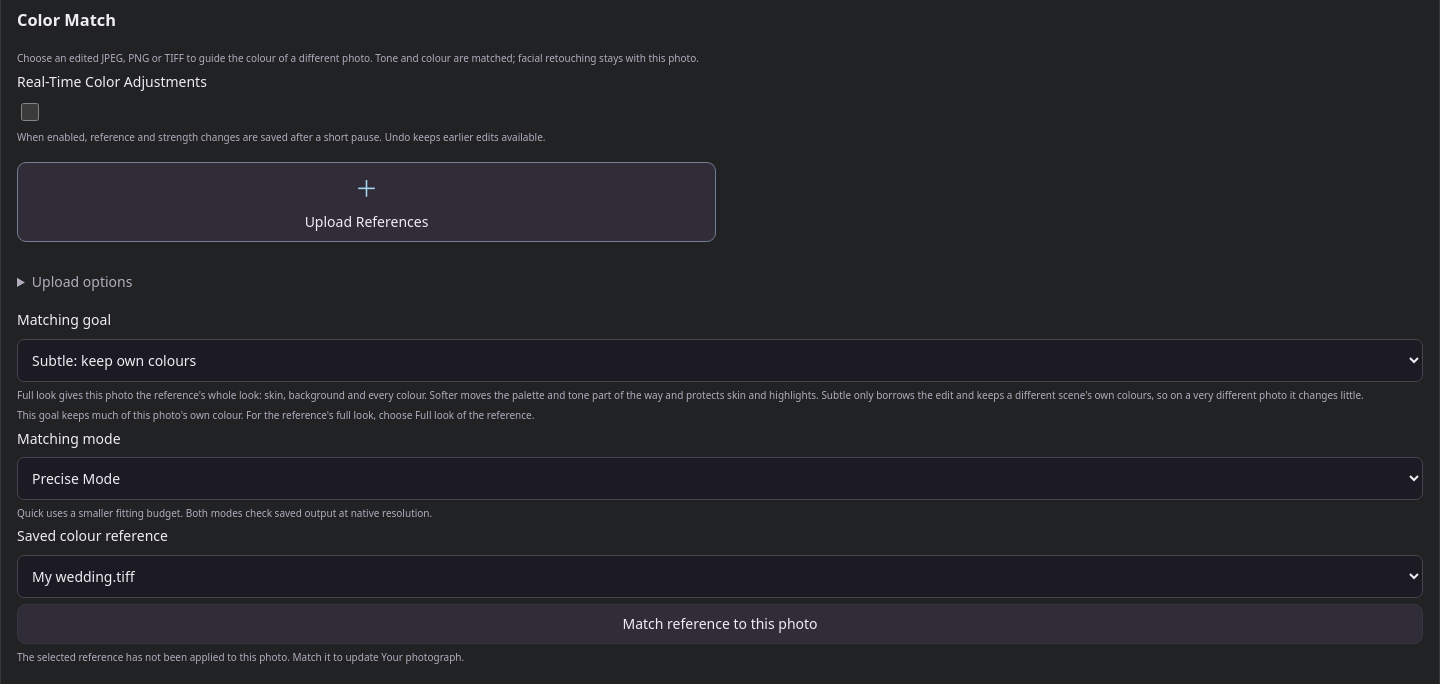
analyses the exact colours of the reference when that goal is chosen, and says what it does
Select "Full look of the reference" in the dropdown labelled "Matching goal" at (720, 360), box x1=17 y1=339 x2=1423 y2=382
(page scrolled)
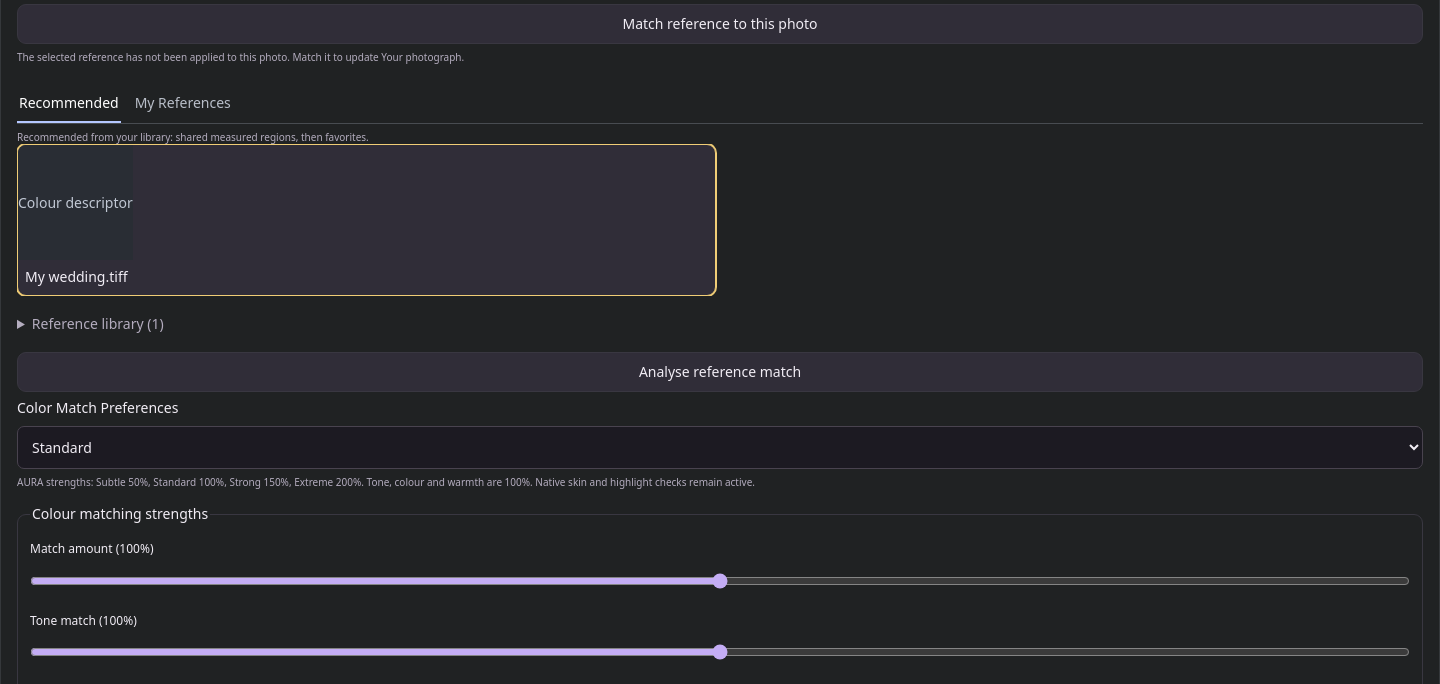
Click the button "Analyse reference match" at (720, 372), box x1=17 y1=352 x2=1423 y2=392
(page scrolled)
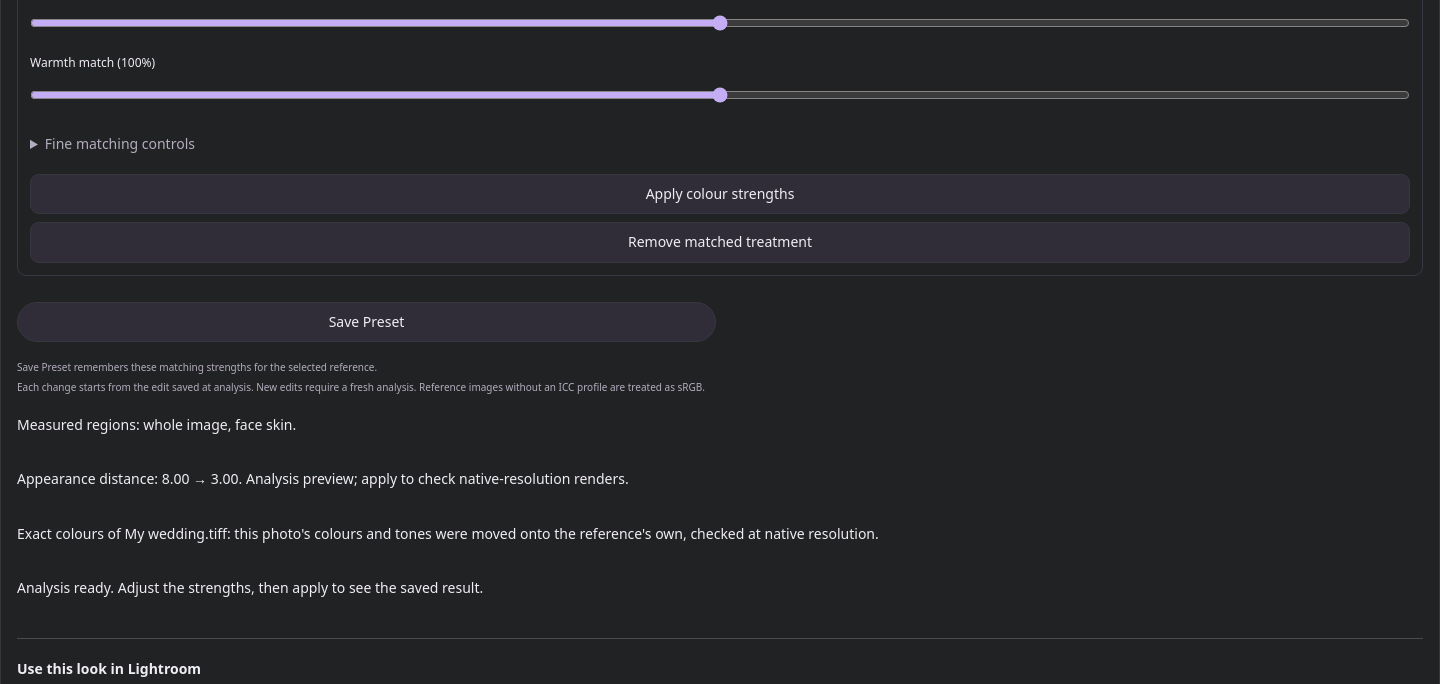
expect the message with test id "colour-match-exact" shows "moved onto the reference": met, box x1=227 y1=524 x2=879 y2=543
